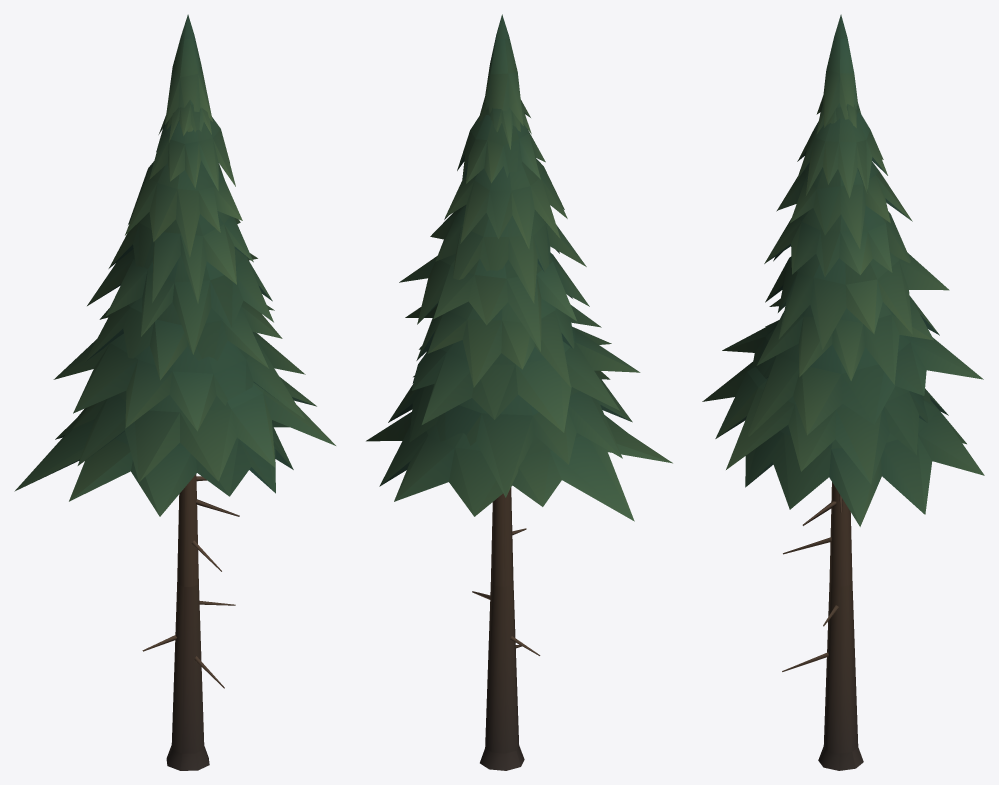
The model's file is pine_tall_b.glb.
The picture shows the model from 3 angles, left to right: view 1: azimuth 30°, elevation 25°; view 2: azimuth 150°, elevation 25°; view 3: azimuth 270°, elevation 25°; orthographic projection.
Parts seen in each view (by area): view 1: pine_tall_b; view 2: pine_tall_b; view 3: pine_tall_b.
Part boxes in pixels (box(x1,y1,x2,y2)): pine_tall_b: box(14, 14, 335, 770); pine_tall_b: box(366, 14, 672, 770); pine_tall_b: box(702, 14, 984, 770).
Bounding box in the file's own units: 6.87 × 17.5 × 6.01.
